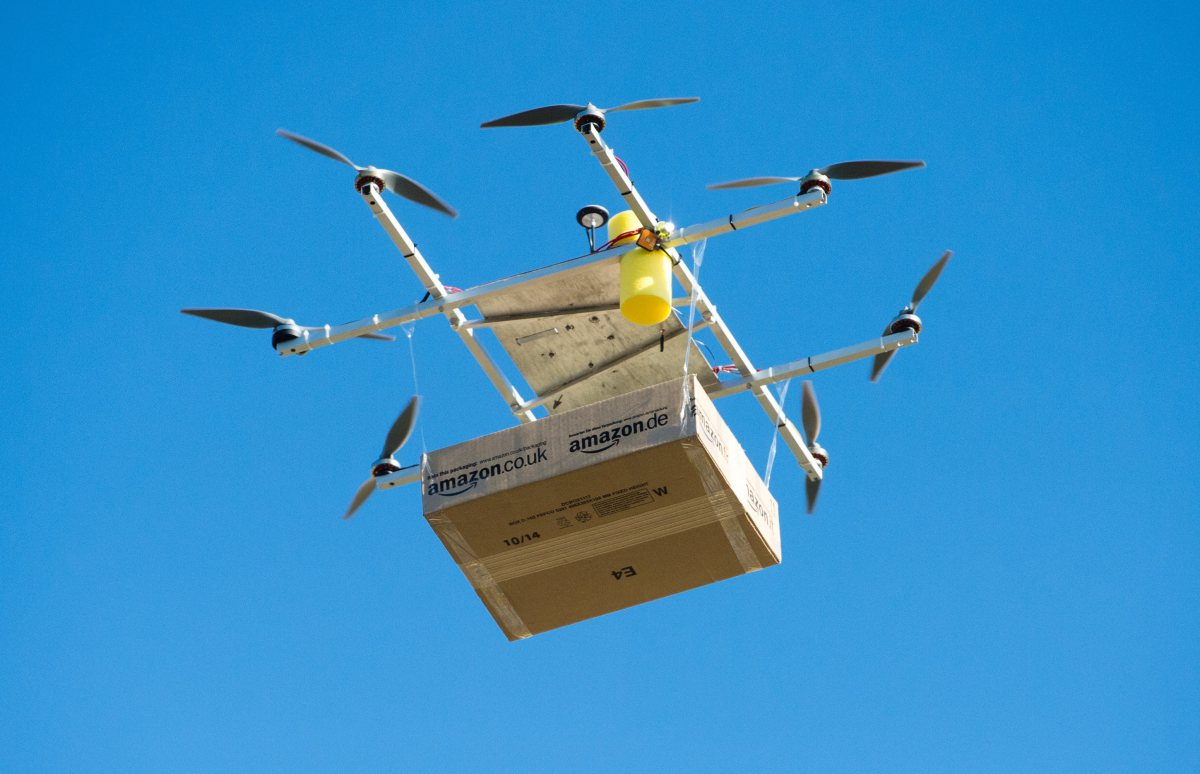drone: (179, 89, 961, 646)
